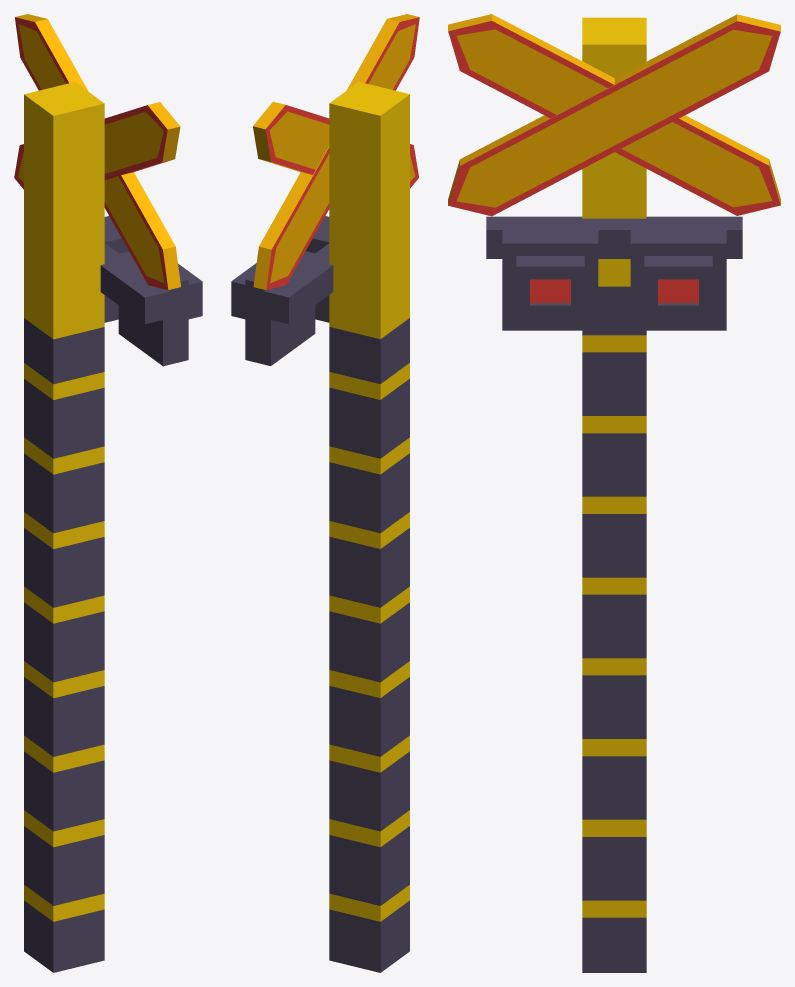
Rendered from trafficlight_kereta_1.fbx.
3 renders of one model, left to right at view 1: azimuth 30°, elevation 25°; view 2: azimuth 150°, elevation 25°; view 3: azimuth 270°, elevation 25°, orthographic. The views are drawn at different scales.
Visible parts, largest first — view 1: Cube.095; view 2: Cube.095; view 3: Cube.095.
Boxes of the visible parts, x1,y1,x2,y2 form: Cube.095: [14, 14, 202, 972]; Cube.095: [231, 14, 419, 972]; Cube.095: [448, 14, 780, 972].
Bounding box in the file's own units: 116 × 827 × 260.
Materials: 1 (1 with a texture image).
